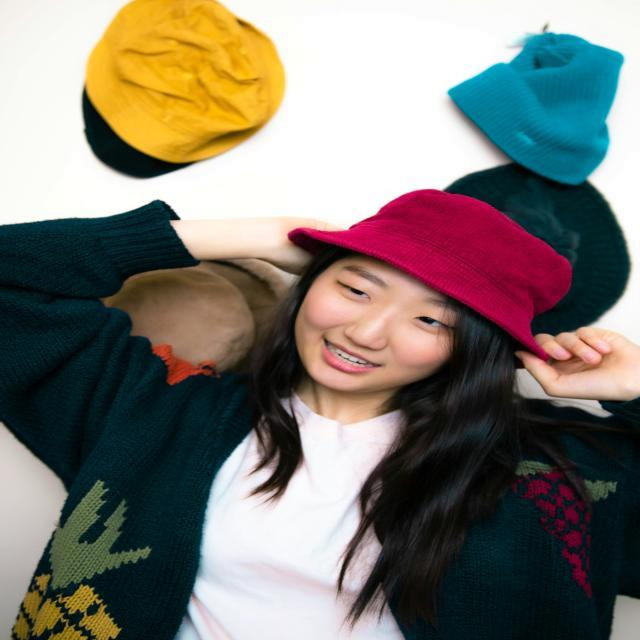no_hard_hat: (2, 188, 640, 640), (288, 189, 572, 360), (82, 0, 285, 178), (446, 163, 630, 335), (448, 32, 624, 185)
